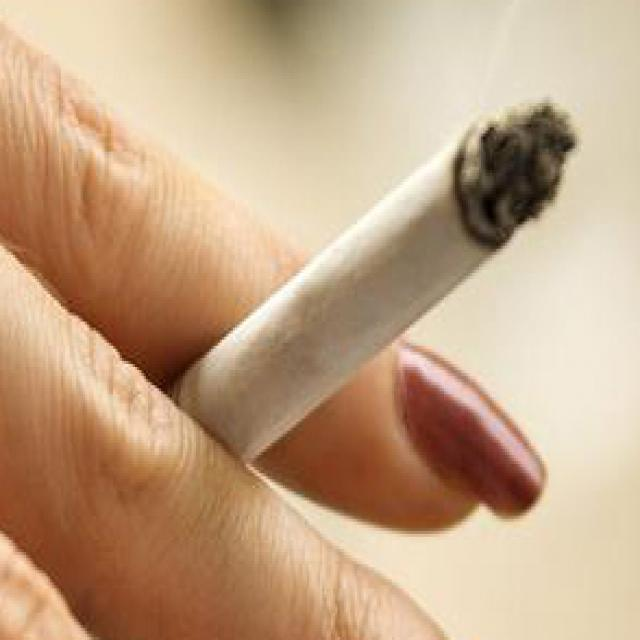smoking: (163, 99, 579, 476)
